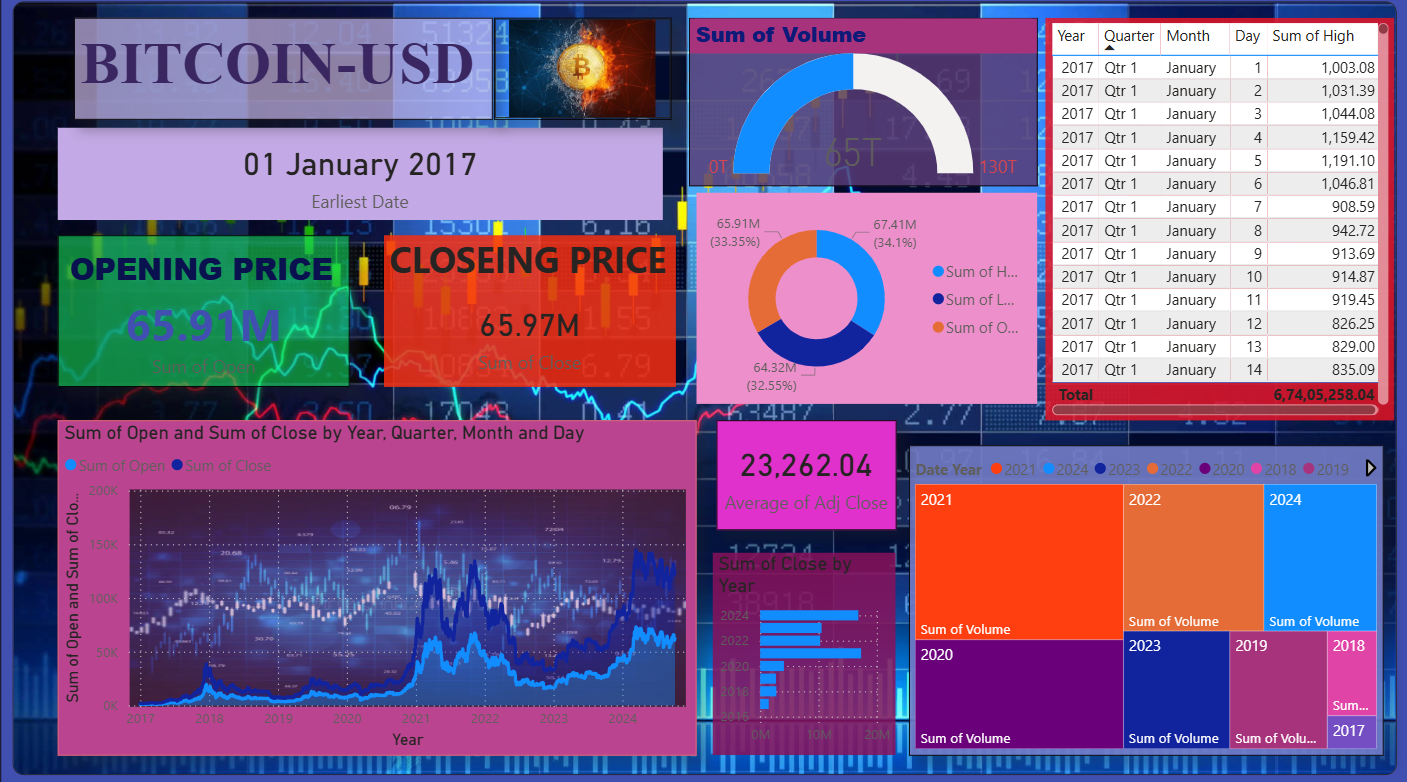

This screenshot's page, from the dashboard's own definition file:
{"tool":"powerbi","page":{"name":"Page 1","canvas":[1280,720],"ordinal":0},"visuals":[{"type":"image","box":[10,0,1270.5,720],"z":0},{"type":"card","title":"OPENING PRICE","fields":{"Values":["Sum(BTC-USD_stock_data.Open)"]},"box":[62.4,222.6,262.9,137],"z":1000},{"type":"card","title":"CLOSEING PRICE","fields":{"Values":["Sum(BTC-USD_stock_data.Close)"]},"box":[355.8,222.6,262.9,137],"z":2000},{"type":"card","fields":{"Values":["Min(BTC-USD_stock_data.Date)"]},"box":[62.4,124.7,545.4,83.2],"z":3000},{"type":"donutChart","fields":{"Y":["Sum(BTC-USD_stock_data.High)","Sum(BTC-USD_stock_data.Low)","Sum(BTC-USD_stock_data.Open)"]},"box":[638.3,183.4,306.9,190.8],"z":4000},{"type":"tableEx","fields":{"Values":["BTC-USD_stock_data.Date.Variation.Date Hierarchy.Year","BTC-USD_stock_data.Date.Variation.Date Hierarchy.Quarter","BTC-USD_stock_data.Date.Variation.Date Hierarchy.Month","BTC-USD_stock_data.Date.Variation.Date Hierarchy.Day","Sum(BTC-USD_stock_data.High)"]},"box":[952.6,25.7,314.3,363.2],"z":5000},{"type":"treemap","fields":{"Values":["Sum(BTC-USD_stock_data.Low)","Sum(BTC-USD_stock_data.Volume)","Sum(BTC-USD_stock_data.High)"],"Group":["BTC-USD_stock_data.Date.Variation.Date Hierarchy.Year","BTC-USD_stock_data.Date.Variation.Date Hierarchy.Quarter","BTC-USD_stock_data.Date.Variation.Date Hierarchy.Month","BTC-USD_stock_data.Date.Variation.Date Hierarchy.Day"]},"box":[829.1,410.9,428,280],"z":6000},{"type":"stackedAreaChart","fields":{"Y":["Sum(BTC-USD_stock_data.Open)","Sum(BTC-USD_stock_data.Close)"],"Category":["BTC-USD_stock_data.Date.Variation.Date Hierarchy.Year","BTC-USD_stock_data.Date.Variation.Date Hierarchy.Quarter","BTC-USD_stock_data.Date.Variation.Date Hierarchy.Month","BTC-USD_stock_data.Date.Variation.Date Hierarchy.Day"]},"box":[62.4,388.9,576,302],"z":7000},{"type":"gauge","fields":{"Y":["Sum(BTC-USD_stock_data.Volume)"]},"box":[631,25.7,314.3,151.6],"z":8000},{"type":"card","fields":{"Values":["Avg(BTC-USD_stock_data.Adj Close)"]},"box":[655.4,388.9,162.6,99],"z":9000},{"type":"barChart","fields":{"Y":["Sum(BTC-USD_stock_data.Close)"],"Category":["BTC-USD_stock_data.Date.Variation.Date Hierarchy.Year","BTC-USD_stock_data.Date.Variation.Date Hierarchy.Quarter","BTC-USD_stock_data.Date.Variation.Date Hierarchy.Month","BTC-USD_stock_data.Date.Variation.Date Hierarchy.Day"]},"box":[653,508.7,165.1,182.2],"z":10000},{"type":"textbox","box":[77,25.7,377.9,91.7],"z":11000},{"type":"image","box":[454.9,25.7,160.2,91.7],"z":12000}]}

Visuals, with their boxes in screenshot pixels (x1, y1, x2, y2), scaled from the page's 1280x720 canvas onto the 1407x782 screenshot:
image: 11,0,1406,781
"OPENING PRICE" card: 69,242,358,391
"CLOSEING PRICE" card: 391,242,680,391
card - Min(BTC-USD_stock_data.Date): 69,135,668,226
donutChart - Sum(BTC-USD_stock_data.High) x Sum(BTC-USD_stock_data.Low): 702,199,1039,406
tableEx - BTC-USD_stock_data.Date.Variation.Date Hierarchy.Year x BTC-USD_stock_data.Date.Variation.Date Hierarchy.Quarter: 1047,28,1393,422
treemap - Sum(BTC-USD_stock_data.Low) x Sum(BTC-USD_stock_data.Volume): 911,446,1382,750
stackedAreaChart - Sum(BTC-USD_stock_data.Open) x Sum(BTC-USD_stock_data.Close): 69,422,702,750
gauge - Sum(BTC-USD_stock_data.Volume): 694,28,1039,193
card - Avg(BTC-USD_stock_data.Adj Close): 720,422,899,530
barChart - Sum(BTC-USD_stock_data.Close) x BTC-USD_stock_data.Date.Variation.Date Hierarchy.Year: 718,553,899,750
textbox: 85,28,500,128
image: 500,28,676,128
